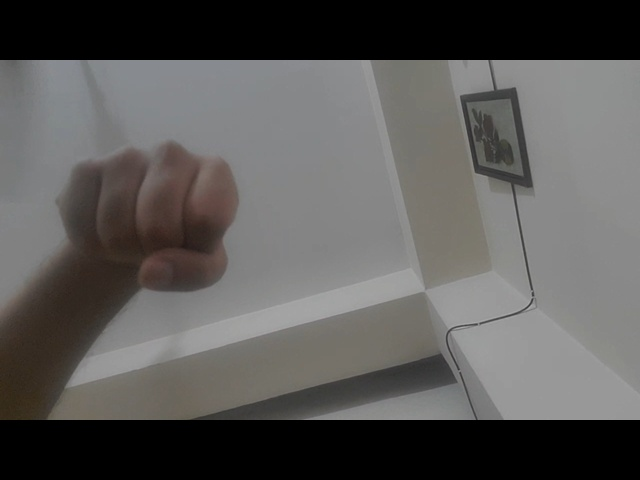Yes: (31, 135, 265, 315)
